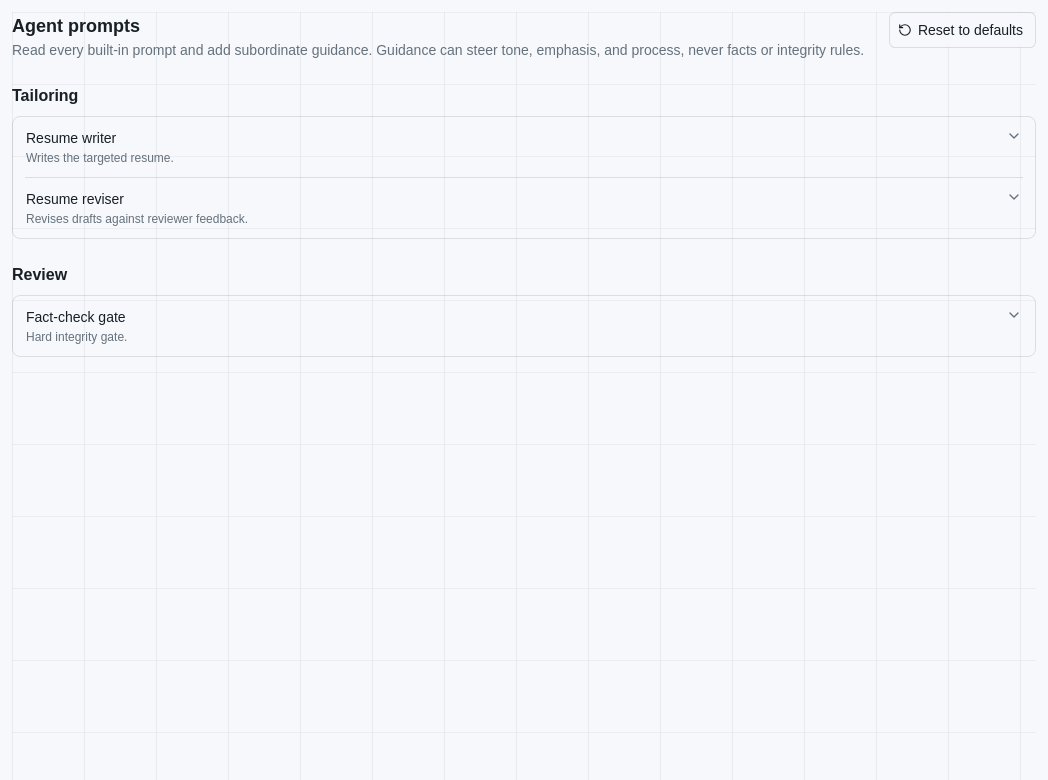
AgentPromptsPage › saves editable guidance and keeps integrity gates read-only
Click the text "Resume writer" at [71, 138], box x1=26 y1=130 x2=116 y2=146
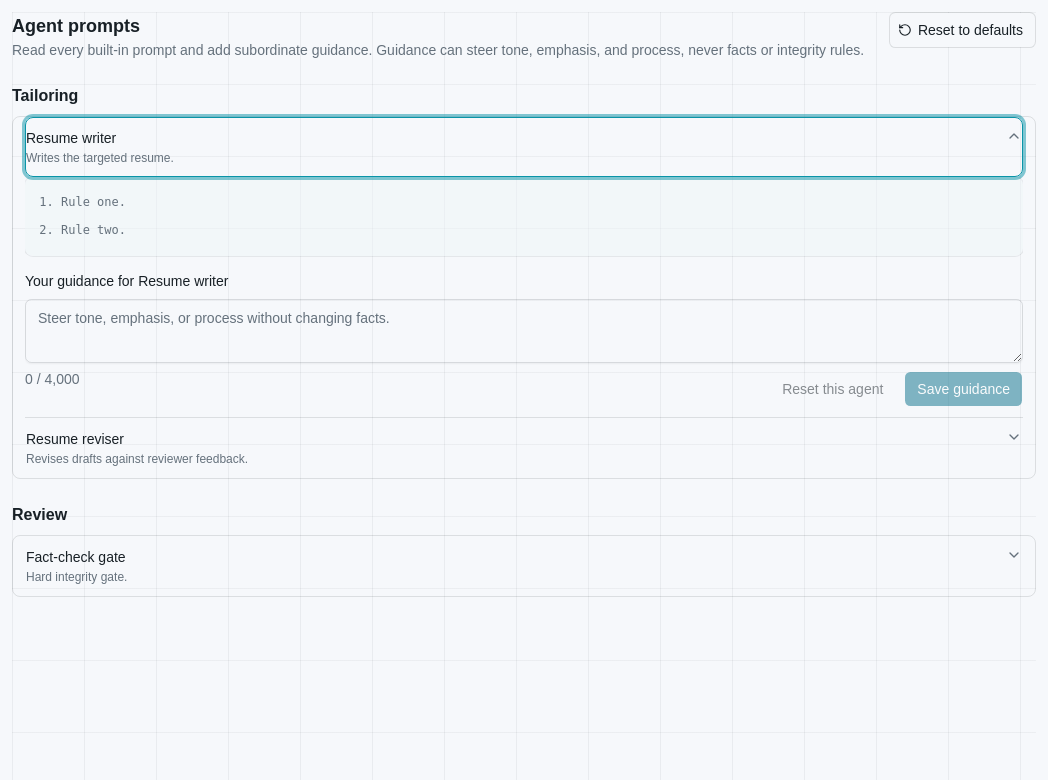
Type "Punchy verbs." into the text box labelled "Your guidance for Resume writer" at [524, 331], box x1=25 y1=299 x2=1023 y2=363
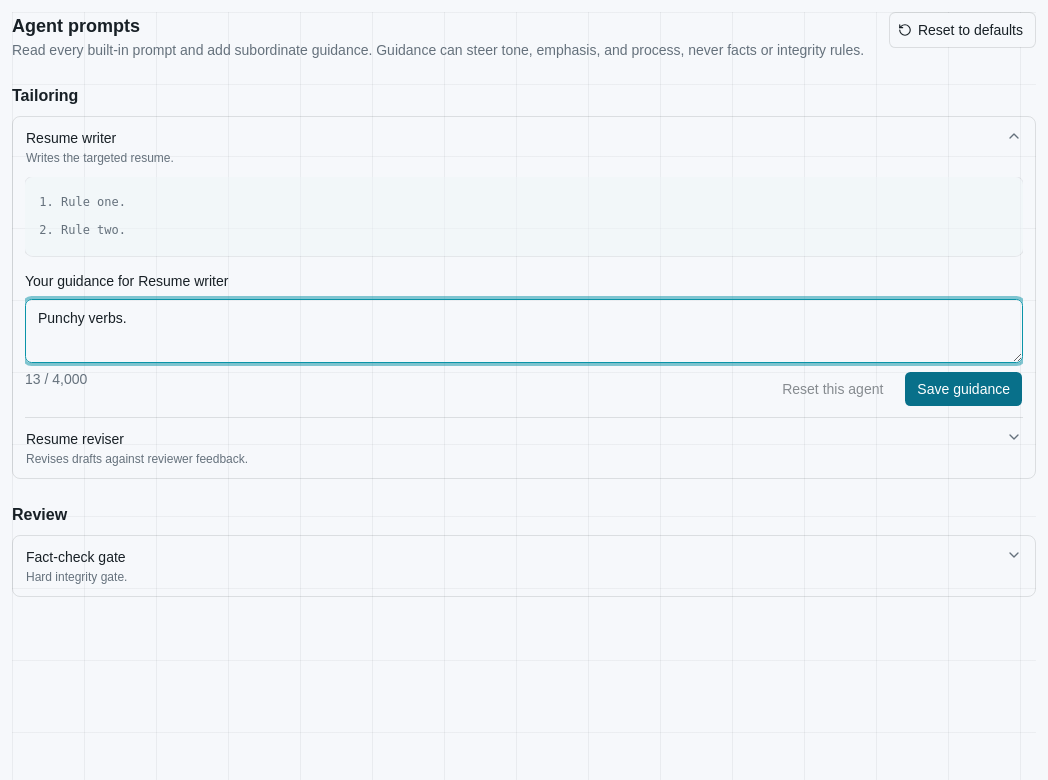
Click the button "Save guidance" at [964, 389], box x1=904 y1=371 x2=1023 y2=407
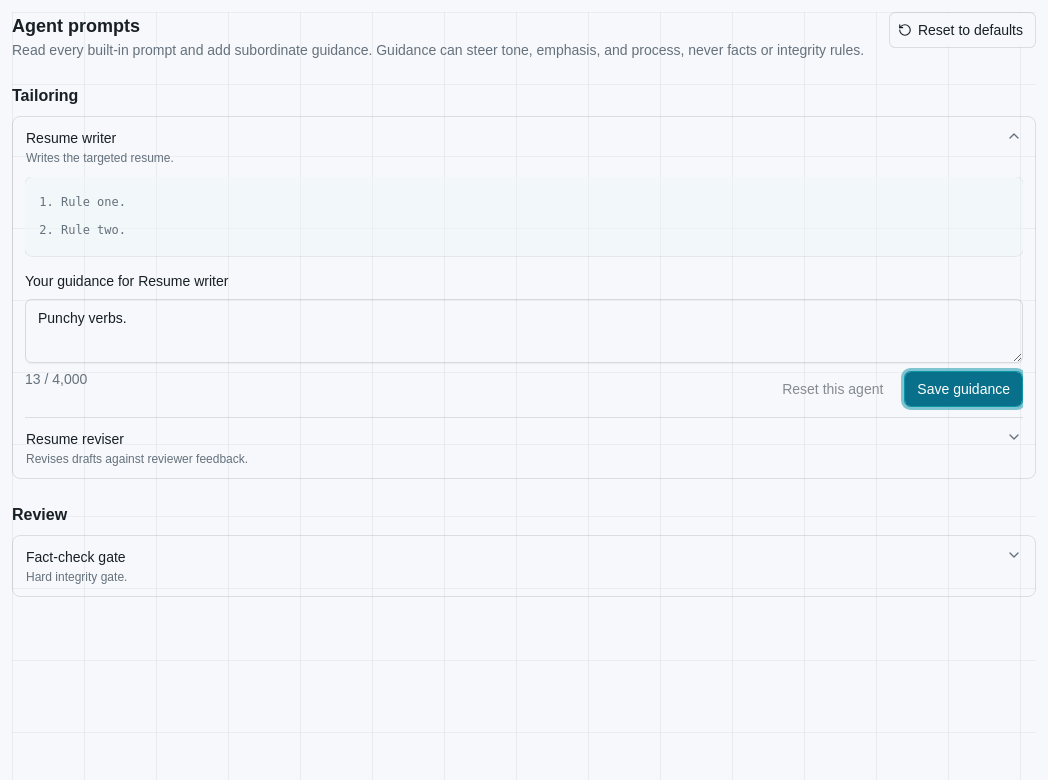
Click the text "Fact-check gate" at [77, 557], box x1=26 y1=547 x2=127 y2=567
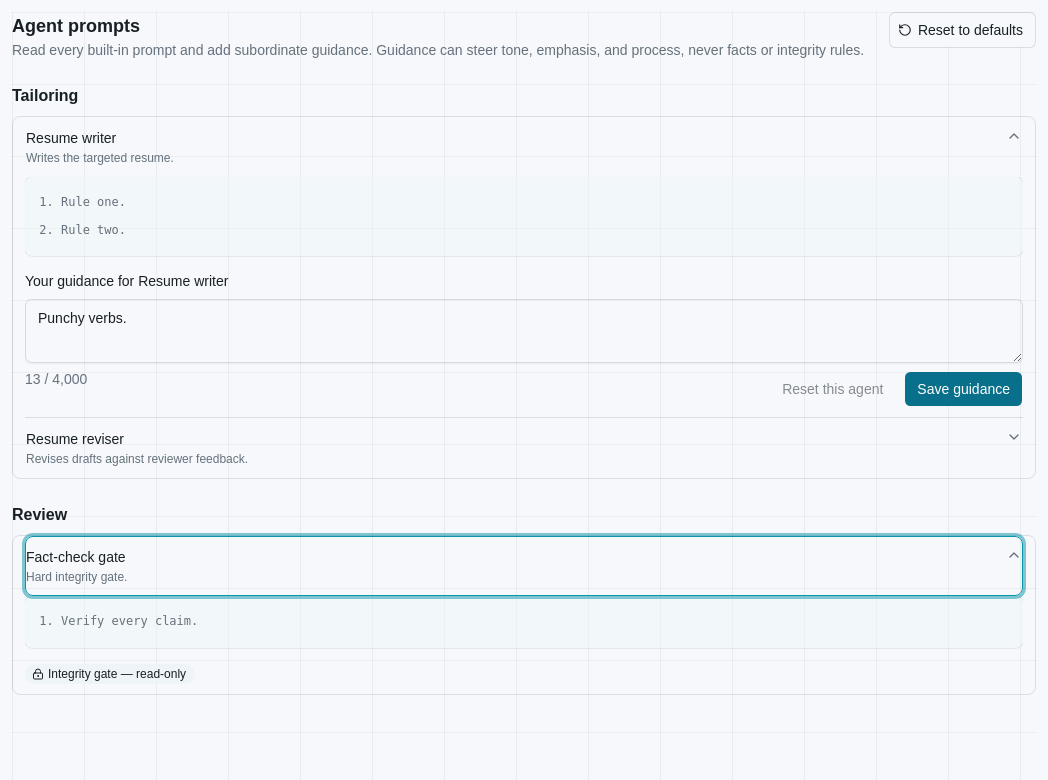
Expected: the text "Integrity gate — read-only" is shown, x1=25 y1=664 x2=195 y2=684
